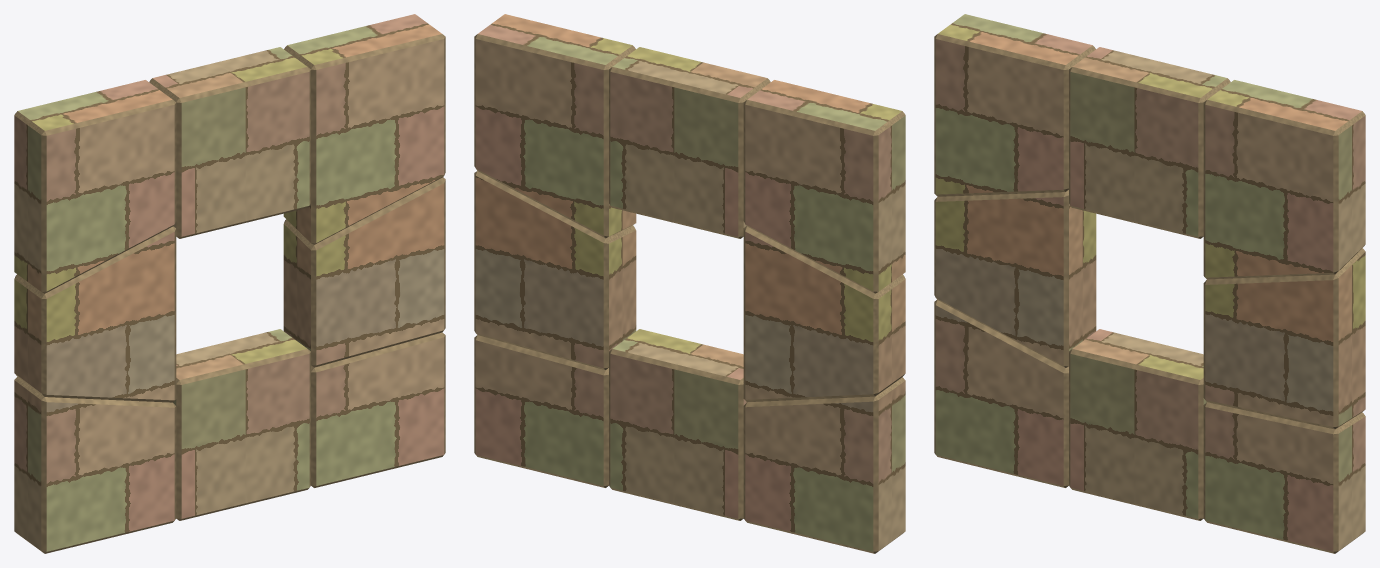
The model's file is Kit_Stone_WallWindow_Fractured.fbx.
3 views of the same model, side by side, from view 1: azimuth 30°, elevation 25°; view 2: azimuth 150°, elevation 25°; view 3: azimuth 330°, elevation 25° (orthographic).
Visible parts, largest first — view 1: Kit_Stone_WallWindow_frag_03, Kit_Stone_WallWindow_frag_06, Kit_Stone_WallWindow_frag_01, Kit_Stone_WallWindow_frag_08, Kit_Stone_WallWindow_frag_07, Kit_Stone_WallWindow_frag_05, Kit_Stone_WallWindow_frag_02, Kit_Stone_WallWindow_frag_04; view 2: Kit_Stone_WallWindow_frag_03, Kit_Stone_WallWindow_frag_06, Kit_Stone_WallWindow_frag_01, Kit_Stone_WallWindow_frag_05, Kit_Stone_WallWindow_frag_08, Kit_Stone_WallWindow_frag_07, Kit_Stone_WallWindow_frag_02, Kit_Stone_WallWindow_frag_04; view 3: Kit_Stone_WallWindow_frag_06, Kit_Stone_WallWindow_frag_05, Kit_Stone_WallWindow_frag_03, Kit_Stone_WallWindow_frag_08, Kit_Stone_WallWindow_frag_02, Kit_Stone_WallWindow_frag_07, Kit_Stone_WallWindow_frag_04, Kit_Stone_WallWindow_frag_01.
Part boxes in pixels (x1=…): Kit_Stone_WallWindow_frag_03: x1=14, y1=80, x2=176, y2=293; Kit_Stone_WallWindow_frag_06: x1=283, y1=14, x2=445, y2=244; Kit_Stone_WallWindow_frag_01: x1=14, y1=377, x2=176, y2=553; Kit_Stone_WallWindow_frag_08: x1=149, y1=47, x2=310, y2=238; Kit_Stone_WallWindow_frag_07: x1=173, y1=329, x2=310, y2=520; Kit_Stone_WallWindow_frag_05: x1=283, y1=177, x2=445, y2=367; Kit_Stone_WallWindow_frag_02: x1=14, y1=226, x2=176, y2=402; Kit_Stone_WallWindow_frag_04: x1=311, y1=332, x2=445, y2=487; Kit_Stone_WallWindow_frag_03: x1=743, y1=80, x2=905, y2=293; Kit_Stone_WallWindow_frag_06: x1=474, y1=14, x2=636, y2=238; Kit_Stone_WallWindow_frag_01: x1=743, y1=377, x2=905, y2=553; Kit_Stone_WallWindow_frag_05: x1=474, y1=171, x2=636, y2=370; Kit_Stone_WallWindow_frag_08: x1=609, y1=47, x2=770, y2=238; Kit_Stone_WallWindow_frag_07: x1=609, y1=329, x2=746, y2=520; Kit_Stone_WallWindow_frag_02: x1=743, y1=226, x2=905, y2=402; Kit_Stone_WallWindow_frag_04: x1=474, y1=335, x2=608, y2=487; Kit_Stone_WallWindow_frag_06: x1=1203, y1=80, x2=1365, y2=279; Kit_Stone_WallWindow_frag_05: x1=1203, y1=248, x2=1365, y2=429; Kit_Stone_WallWindow_frag_03: x1=934, y1=14, x2=1095, y2=196; Kit_Stone_WallWindow_frag_08: x1=1069, y1=47, x2=1230, y2=238; Kit_Stone_WallWindow_frag_02: x1=934, y1=190, x2=1096, y2=367; Kit_Stone_WallWindow_frag_07: x1=1069, y1=329, x2=1206, y2=520; Kit_Stone_WallWindow_frag_04: x1=1203, y1=402, x2=1365, y2=553; Kit_Stone_WallWindow_frag_01: x1=934, y1=300, x2=1068, y2=487.
Size of what is drawn, in the model's own units: 3 by 3 by 0.4.
Materials: 2 (2 with a texture image).
